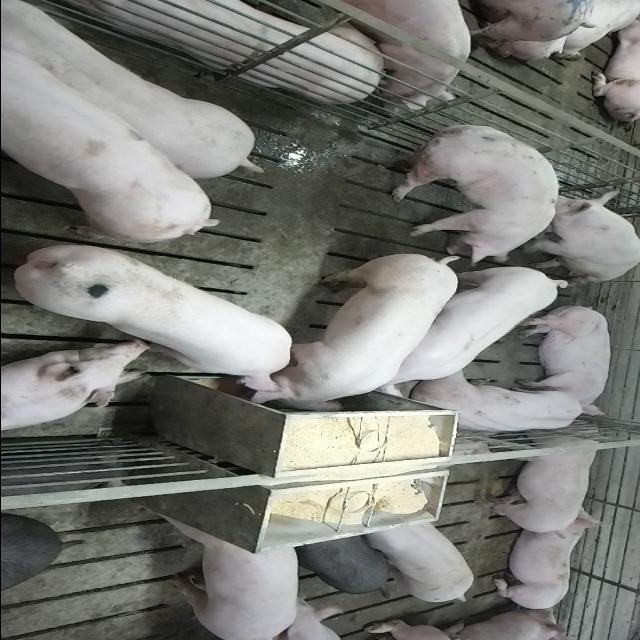Feeding: (11, 243, 297, 401), (251, 247, 466, 411)
Lateral_lying: (28, 0, 388, 101), (512, 303, 612, 416)
Sitting: (511, 192, 638, 288)
Standing: (1, 0, 259, 176), (357, 261, 573, 395), (372, 118, 558, 262), (146, 508, 298, 638), (470, 421, 610, 535), (335, 0, 470, 108), (362, 515, 474, 604), (294, 532, 394, 596)
Sternal_lying: (0, 344, 150, 434), (486, 515, 606, 612), (408, 374, 586, 437)
